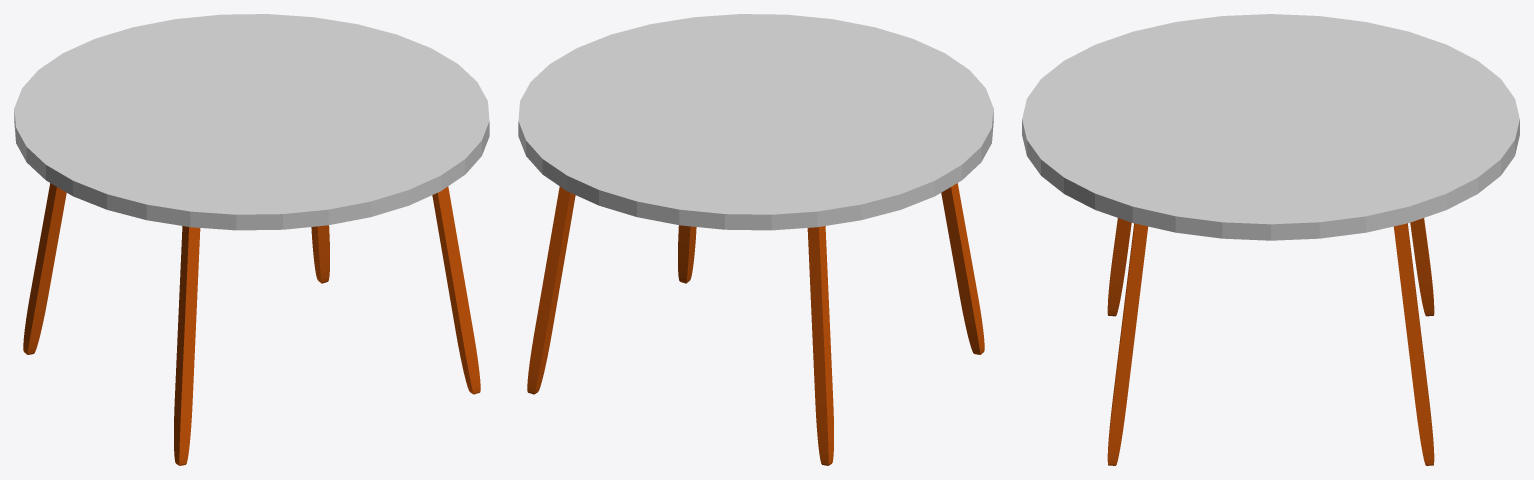
The model's file is circleTable.fbx.
3 views of the same model, side by side, from view 1: azimuth 30°, elevation 25°; view 2: azimuth 150°, elevation 25°; view 3: azimuth 270°, elevation 25° (orthographic). The views are drawn at different scales.
Visible parts, largest first — view 1: circleTable; view 2: circleTable; view 3: circleTable.
Part boxes in pixels (left/top/right/bottom): circleTable: left=14, top=14, right=489, bottom=465; circleTable: left=518, top=14, right=993, bottom=465; circleTable: left=1022, top=14, right=1519, bottom=465.
Bounding box in the file's own units: 100 × 60 × 100.
